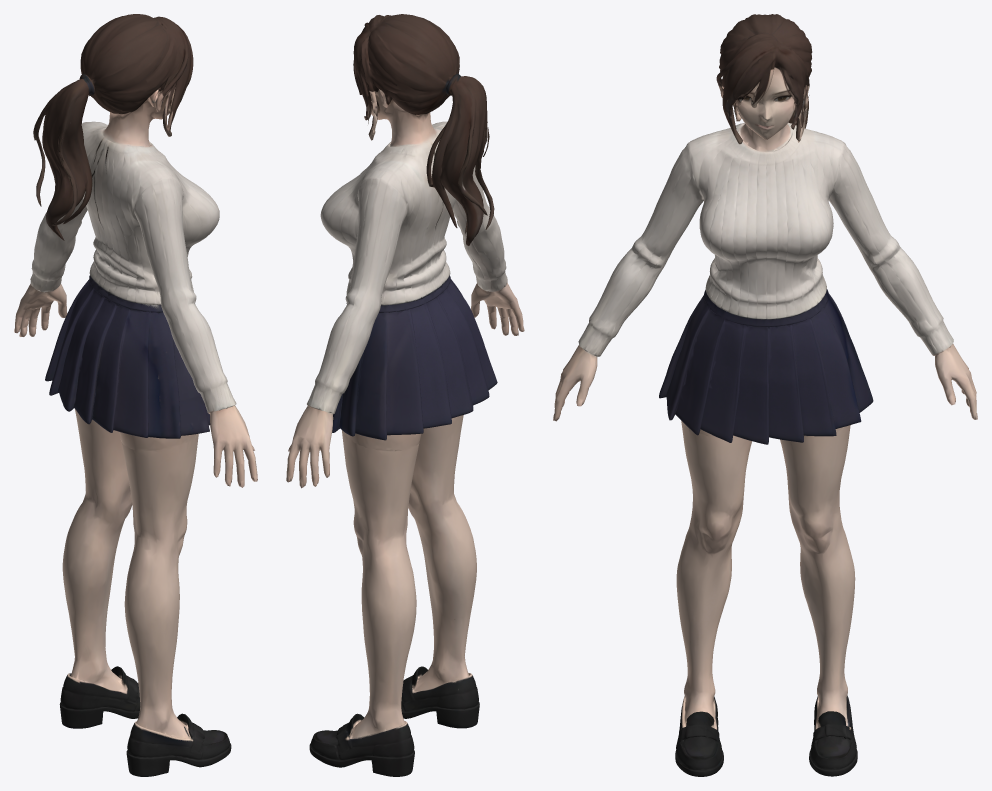
The model's file is demo.glb.
The picture shows the model from 3 angles, left to right: view 1: azimuth 30°, elevation 25°; view 2: azimuth 150°, elevation 25°; view 3: azimuth 270°, elevation 25°; orthographic projection.
Parts seen in each view (by area): view 1: tripo_node_8cbc5fca-ac63-495f-8677-3c8b9c965428; view 2: tripo_node_8cbc5fca-ac63-495f-8677-3c8b9c965428; view 3: tripo_node_8cbc5fca-ac63-495f-8677-3c8b9c965428.
Boxes of the visible parts, x1,y1,x2,y2 form: tripo_node_8cbc5fca-ac63-495f-8677-3c8b9c965428: (14, 14, 257, 776); tripo_node_8cbc5fca-ac63-495f-8677-3c8b9c965428: (286, 14, 524, 776); tripo_node_8cbc5fca-ac63-495f-8677-3c8b9c965428: (553, 14, 977, 776).
Size of the model in its own units: 0.3617 by 1.65 by 0.8703.
Materials: 1 (1 with a texture image).
